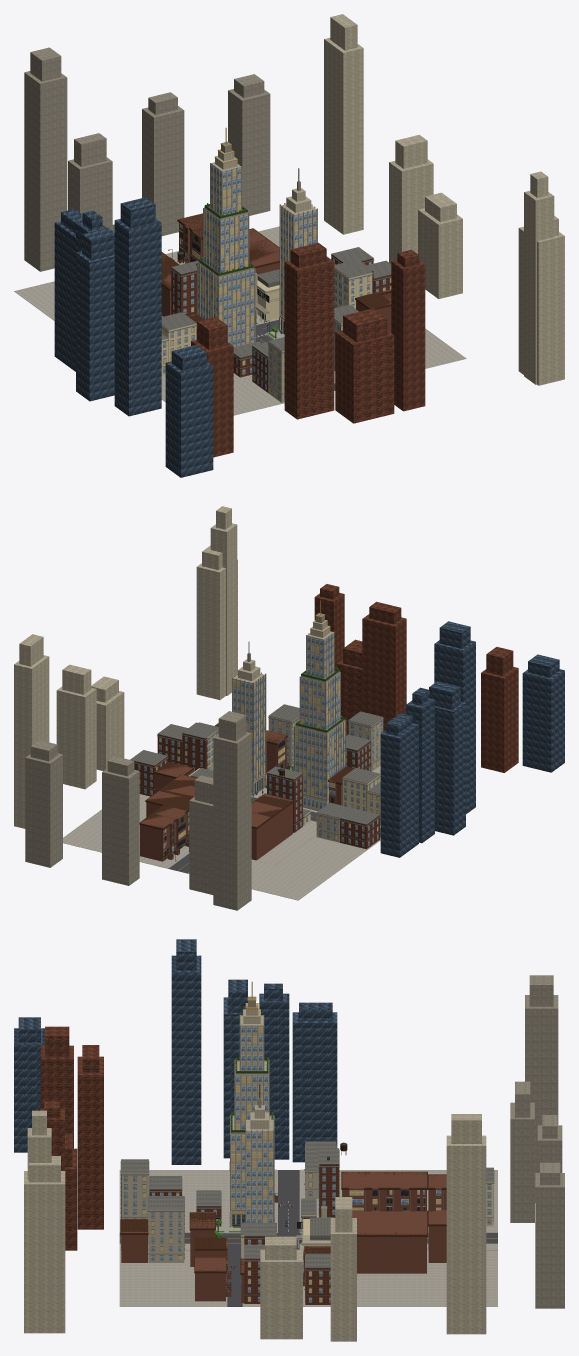
Rendered from BusinessDistrict.fbx.
3 renders of one model, top to bottom at view 1: azimuth 30°, elevation 25°; view 2: azimuth 150°, elevation 25°; view 3: azimuth 270°, elevation 25°, orthographic. The views are drawn at different scales.
Visible parts, largest first — view 1: Gnd_Skyline, Bldg_Tower1, Ext_Ground, Bldg_Tower3, Bldg_Apartments, Bldg_ExtC26S1, LightSrc_Windows_Tower1, Bldg_ExtC-50S2, Bldg_Mall, Bldg_ExtN-50W1, Bldg_ExtN-50W2, Bldg_ExtN47E2 (+3 smaller); view 2: Gnd_Skyline, Bldg_Tower1, Ext_Ground, Bldg_Tower3, Bldg_ExtN47E2, Bldg_ExtC-50N1, Bldg_Apartments, Bldg_ExtSpurN1, Bldg_ExtC-50S2, Bldg_ExtN-50W1, Bldg_ExtN-50E2, Gnd_Plaza (+12 smaller); view 3: Gnd_Skyline, Ext_Ground, Bldg_Tower1, Bldg_Tower3, Bldg_ExtN-50E2, Bldg_UpkeepNE2, Bldg_UpkeepNE3, Bldg_ExtN-50W1, Bldg_ExtSpurS2, Bldg_Apartments, Bldg_UpkeepNW3, Bldg_ExtC26N2 (+17 smaller).
Part boxes in pixels (x1,y1,x2,y2): Gnd_Skyline: [24, 14, 564, 477]; Bldg_Tower1: [197, 127, 255, 347]; Ext_Ground: [14, 226, 466, 415]; Bldg_Tower3: [279, 168, 317, 334]; Bldg_Apartments: [170, 251, 198, 316]; Bldg_ExtC26S1: [334, 261, 372, 308]; LightSrc_Windows_Tower1: [198, 169, 253, 341]; Bldg_ExtC-50S2: [161, 312, 197, 361]; Bldg_Mall: [255, 269, 279, 320]; Bldg_ExtN-50W1: [267, 337, 284, 402]; Bldg_ExtN-50W2: [251, 341, 268, 392]; Bldg_ExtN47E2: [177, 213, 202, 262]; Gnd_Skyline: [14, 506, 564, 910]; Bldg_Tower1: [294, 600, 346, 810]; Ext_Ground: [63, 765, 380, 900]; Bldg_Tower3: [232, 641, 266, 795]; Bldg_ExtN47E2: [139, 813, 176, 861]; Bldg_ExtC-50N1: [339, 808, 380, 849]; Bldg_Apartments: [266, 766, 303, 832]; Bldg_ExtSpurN1: [181, 723, 218, 772]; Bldg_ExtC-50S2: [342, 768, 380, 811]; Bldg_ExtN-50W1: [348, 711, 383, 771]; Bldg_ExtN-50E2: [268, 704, 299, 767]; Gnd_Plaza: [251, 775, 317, 864]; Gnd_Skyline: [14, 939, 564, 1341]; Ext_Ground: [119, 1170, 497, 1306]; Bldg_Tower1: [229, 981, 274, 1226]; Bldg_Tower3: [245, 1084, 274, 1222]; Bldg_ExtN-50E2: [148, 1196, 184, 1262]; Bldg_UpkeepNE2: [364, 1210, 396, 1273]; Bldg_UpkeepNE3: [395, 1210, 427, 1273]; Bldg_ExtN-50W1: [120, 1159, 149, 1219]; Bldg_ExtSpurS2: [194, 1257, 227, 1301]; Bldg_Apartments: [318, 1142, 347, 1217]; Bldg_UpkeepNW3: [392, 1171, 427, 1210]; Bldg_ExtC26N2: [305, 1253, 330, 1304].
Bounding box in the file's own units: 158 × 84.67 × 179.
